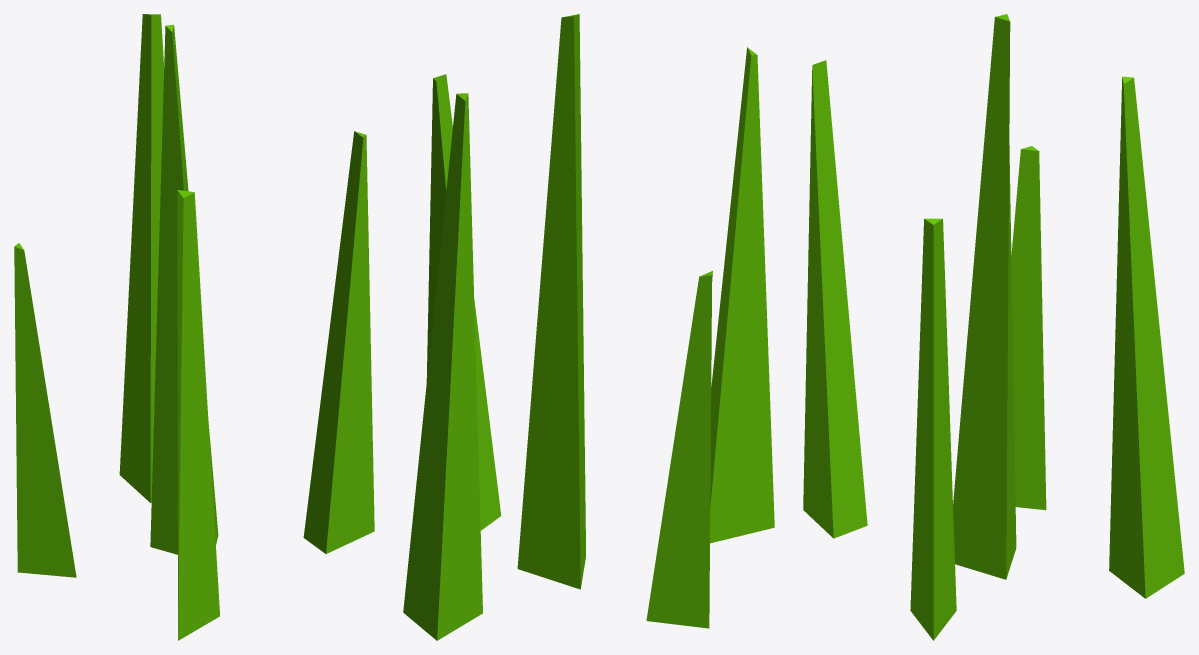
Rendered from GrassPrimitve_2.fbx.
3 renders of one model, left to right at view 1: azimuth 30°, elevation 25°; view 2: azimuth 150°, elevation 25°; view 3: azimuth 270°, elevation 25°, orthographic. The views are drawn at different scales.
Parts seen in each view (by area): view 1: GrassPrimitive_2; view 2: GrassPrimitive_2; view 3: GrassPrimitive_2.
Boxes of the visible parts, x1=… form: GrassPrimitive_2: x1=14, y1=14, x2=374, y2=640; GrassPrimitive_2: x1=403, y1=14, x2=774, y2=640; GrassPrimitive_2: x1=803, y1=14, x2=1184, y2=640.
Bounding box in the file's own units: 3.09 × 4.93 × 3.16.
